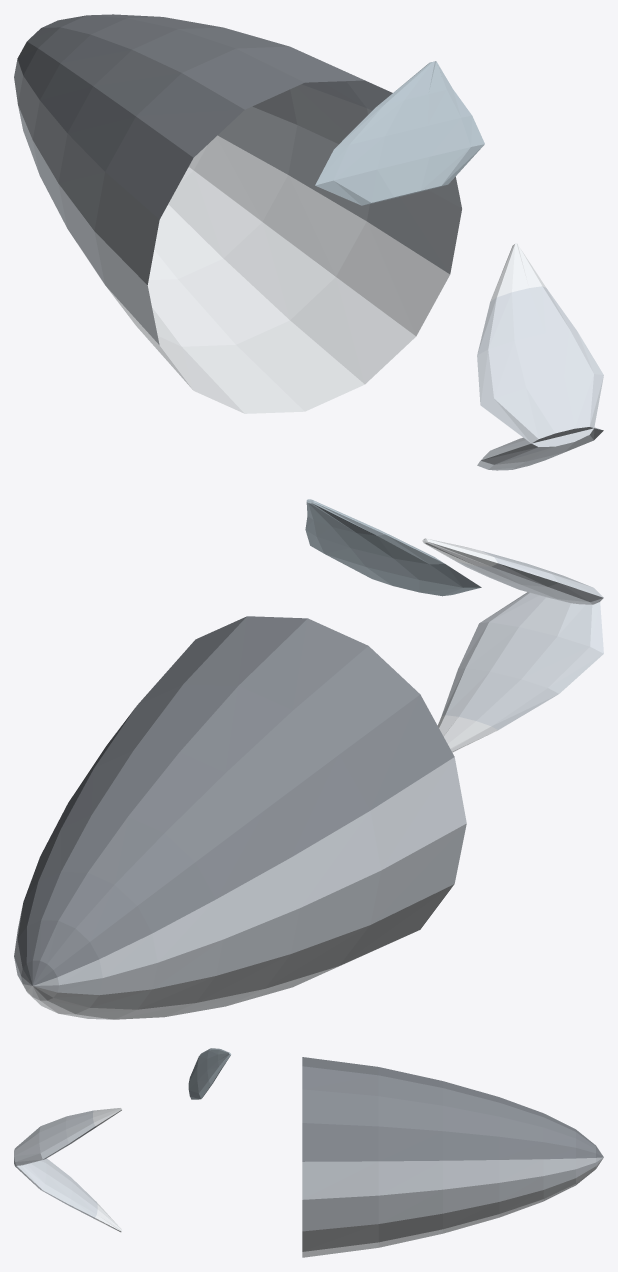
The model's file is SerpentTail.obj.
3 views of the same model, one above another, from view 1: azimuth 30°, elevation 25°; view 2: azimuth 150°, elevation 25°; view 3: azimuth 270°, elevation 25° (orthographic). The views are drawn at different scales.
Size of the model in its own units: 1 by 1.16 by 2.93.
